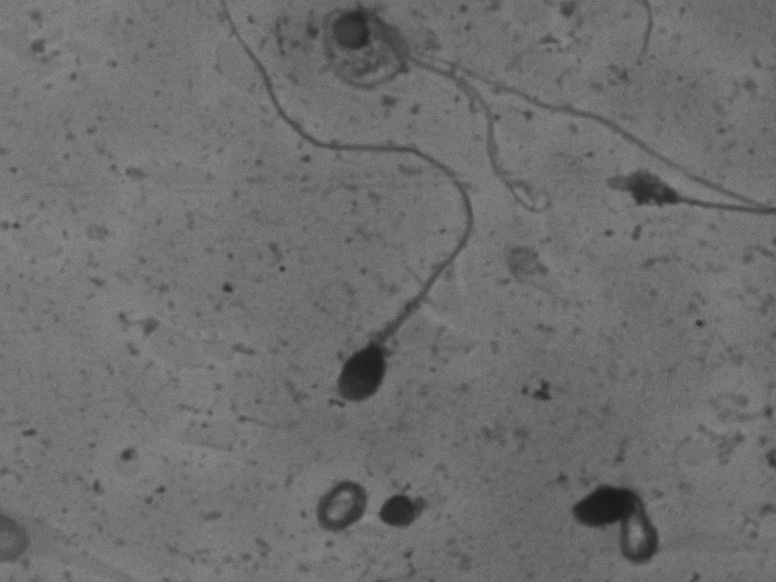Abnormal: (303, 9, 759, 205)
Normal: (195, 8, 494, 419)
